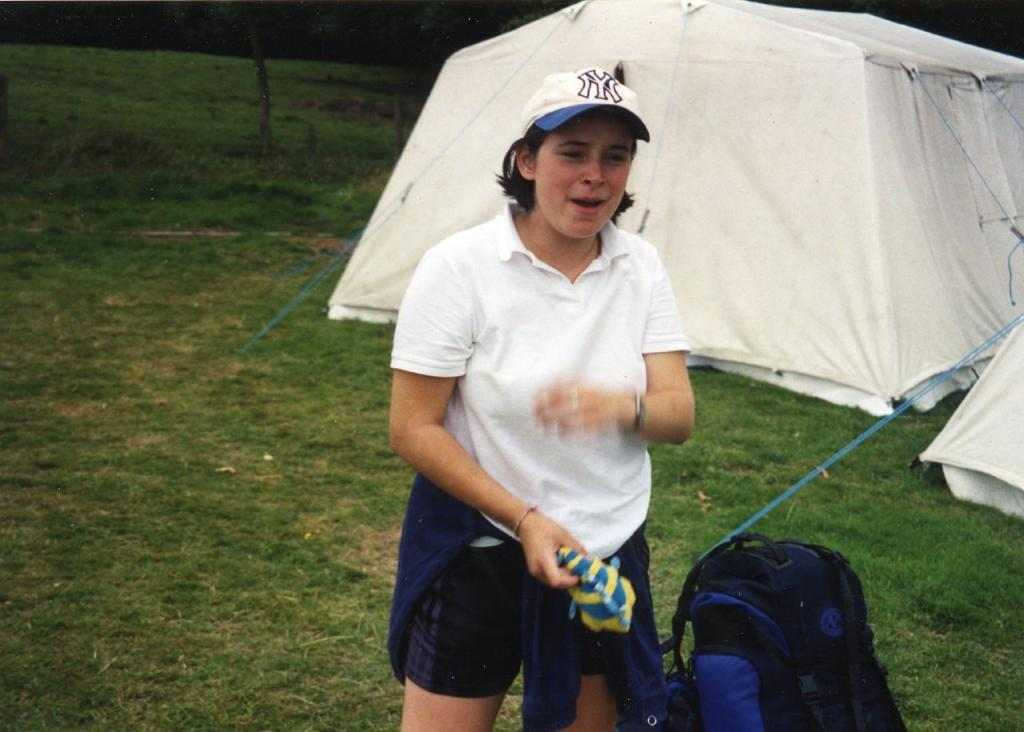Luggage-and-bags: (679, 520, 895, 715)
